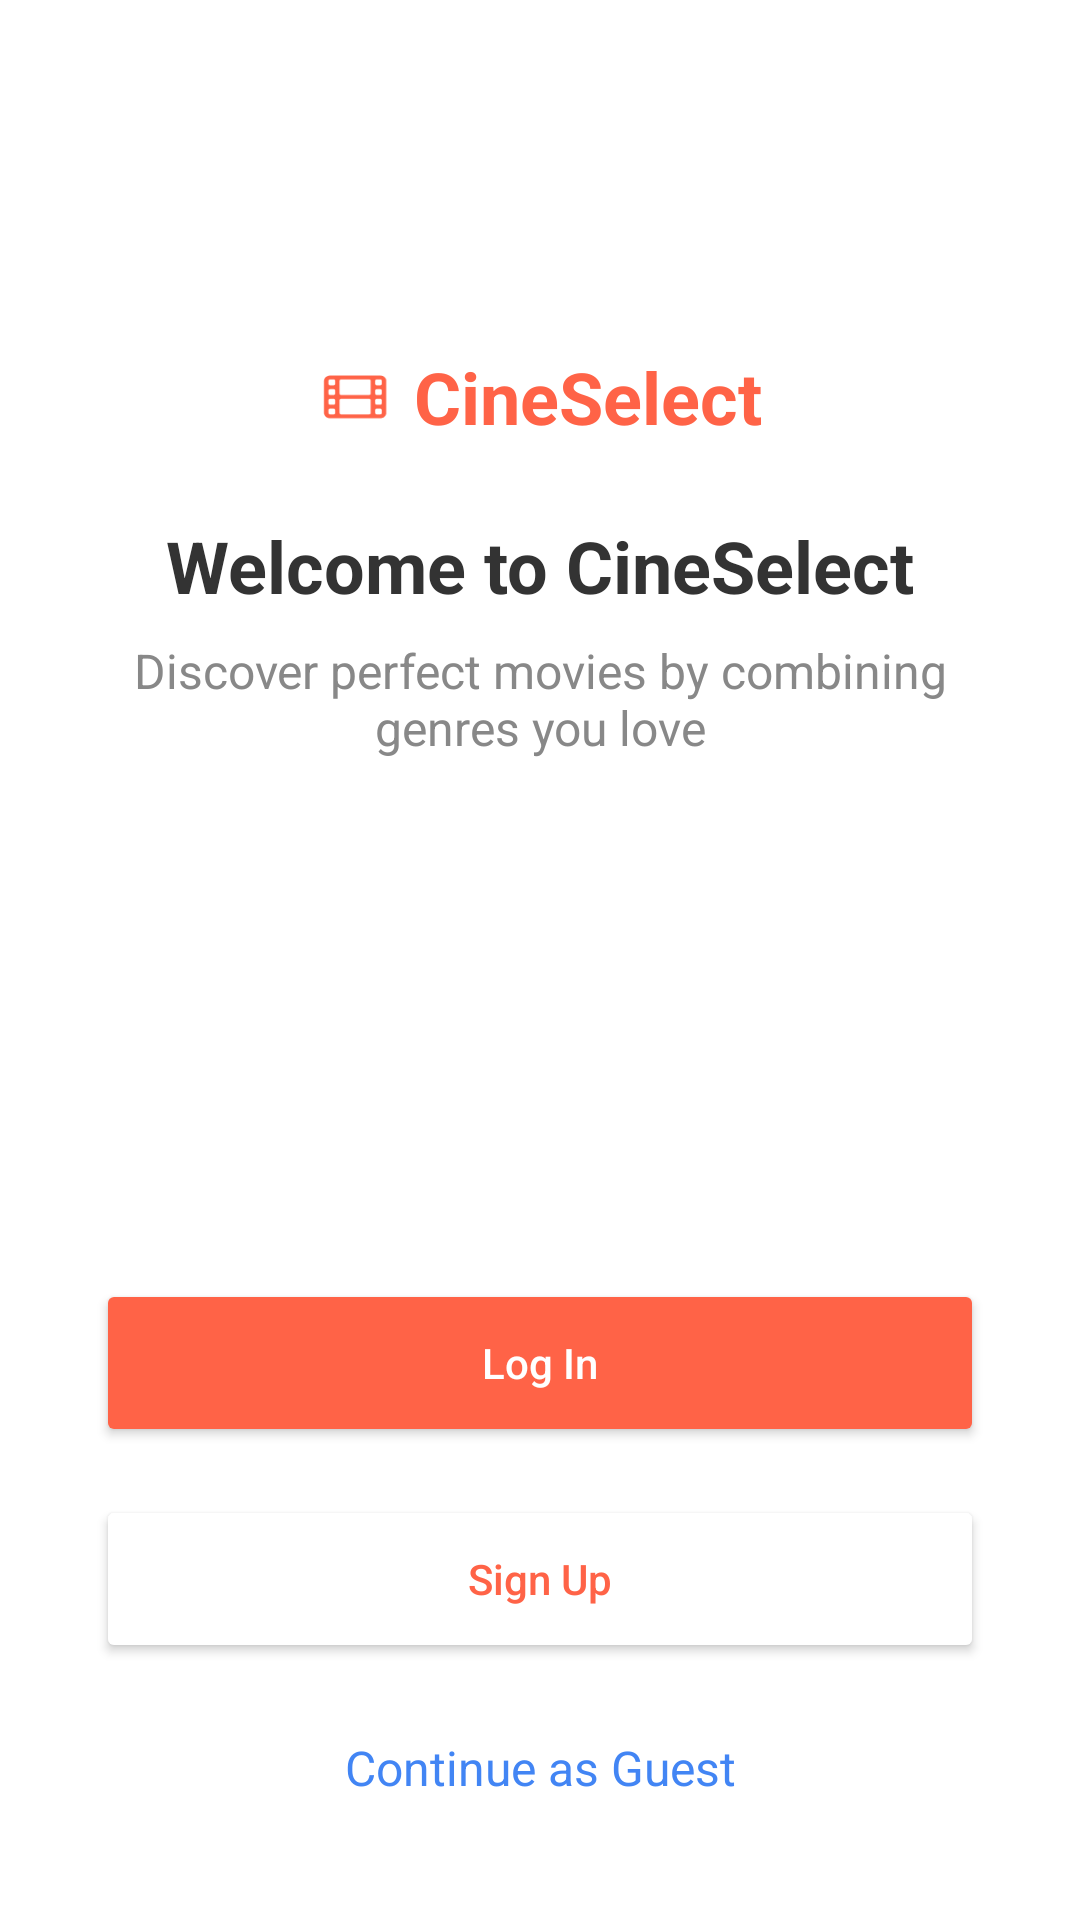

Icons on this 1080w x 1920h Android screen, each with its box as (x1, y1, x2, y2):
film: (323, 375, 387, 419)
